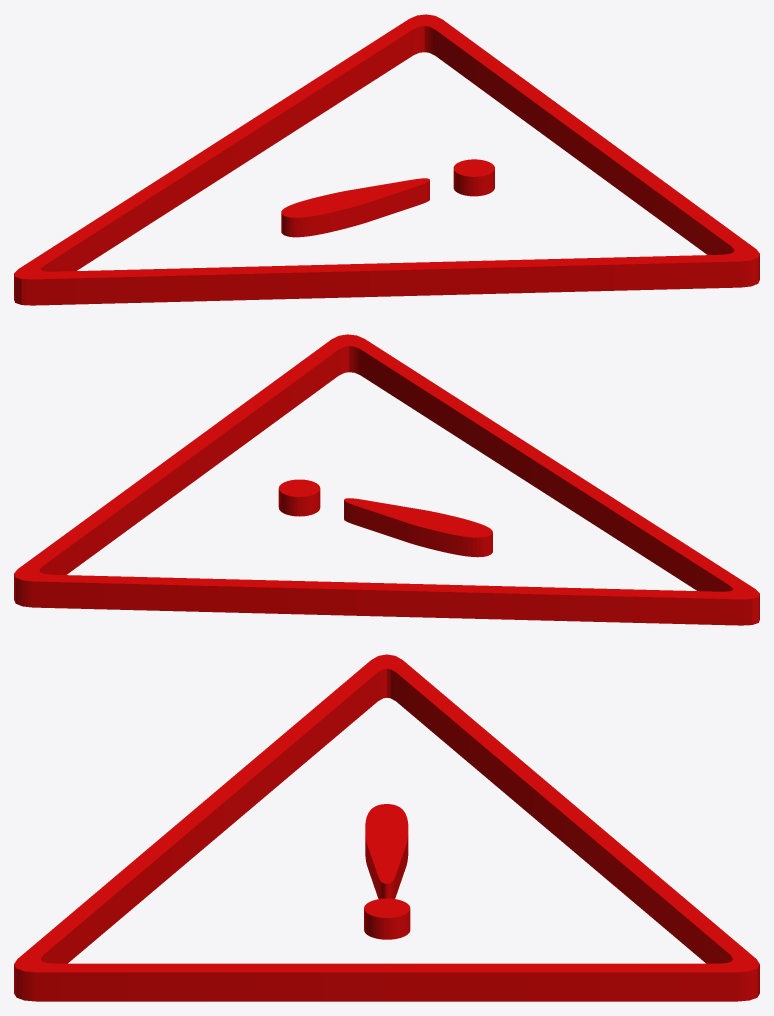
The model's file is Troop Warning Sign 2.glb.
3 renders of one model, top to bottom at view 1: azimuth 30°, elevation 25°; view 2: azimuth 150°, elevation 25°; view 3: azimuth 270°, elevation 25°, orthographic. The views are drawn at different scales.
Visible parts, largest first — view 1: Troops Warning; view 2: Troops Warning; view 3: Troops Warning.
Part boxes in pixels (left/top/right/bottom): Troops Warning: left=14, top=14, right=759, bottom=305; Troops Warning: left=14, top=334, right=759, bottom=625; Troops Warning: left=14, top=654, right=759, bottom=1001.
Bounding box in the file's own units: 0.0222 × 0.000949 × 0.022.
